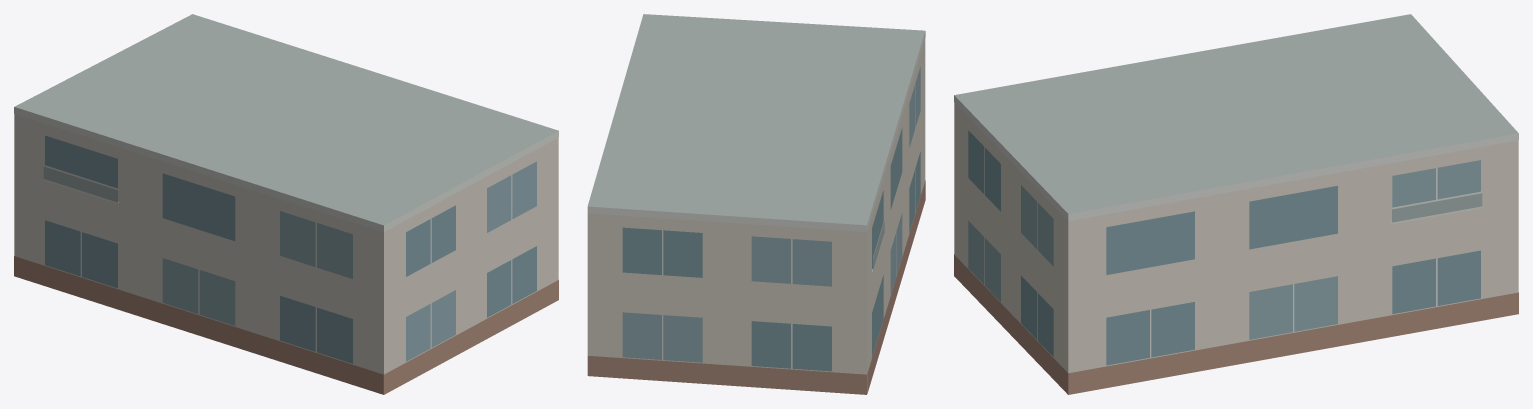
Rendered from survey-upis-32851569.glb.
3 renders of one model, left to right at view 1: azimuth 30°, elevation 25°; view 2: azimuth 150°, elevation 25°; view 3: azimuth 270°, elevation 25°, orthographic. The views are drawn at different scales.
Visible parts, largest first — view 1: survey-upis-32851569.tmp; view 2: survey-upis-32851569.tmp; view 3: survey-upis-32851569.tmp.
Boxes of the visible parts, x1,y1,x2,y2 form: survey-upis-32851569.tmp: (14,14,558,394); survey-upis-32851569.tmp: (587,14,925,394); survey-upis-32851569.tmp: (954,14,1518,394).
Bounding box in the file's own units: 14.48 × 6.1 × 17.27.
